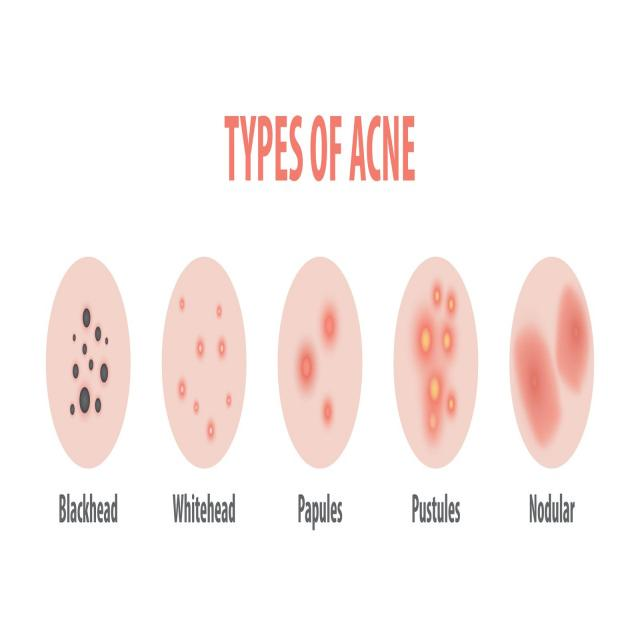acne: (511, 266, 592, 460), (409, 276, 464, 447), (175, 290, 232, 447), (296, 288, 343, 440), (64, 301, 114, 434)
